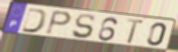0: (146, 22, 168, 47)
6: (97, 16, 119, 42)
D: (20, 7, 50, 35)
P: (43, 9, 73, 37)
S: (71, 13, 97, 40)
T: (126, 18, 146, 45)
